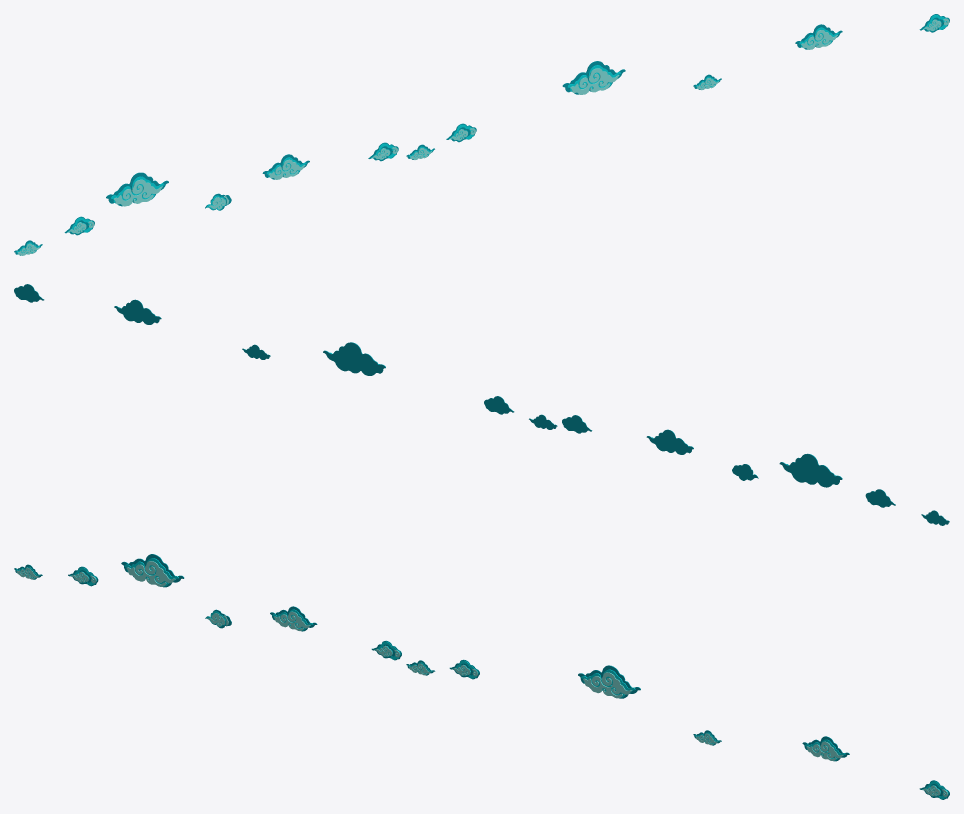
Rendered from NUBES.fbx.
The picture shows the model from 3 angles, top to bottom: view 1: azimuth 30°, elevation 25°; view 2: azimuth 150°, elevation 25°; view 3: azimuth 330°, elevation 25°; orthographic projection.
Parts seen in each view (by area): view 1: Curve.035, Curve.003; view 2: Curve.037, Curve.001, Curve.015, Curve.041; view 3: Curve.003, Curve.035.
Part boxes in pixels (box(x1,y1,x2,y2)): Curve.035: box(570, 68, 619, 94); Curve.003: box(113, 179, 162, 206); Curve.037: box(323, 342, 385, 375); Curve.001: box(779, 453, 842, 487); Curve.015: box(646, 429, 693, 454); Curve.041: box(114, 299, 161, 324); Curve.003: box(126, 561, 175, 586); Curve.035: box(583, 672, 631, 698).
Size of the model in its own units: 25190 by 1289 by 403.
